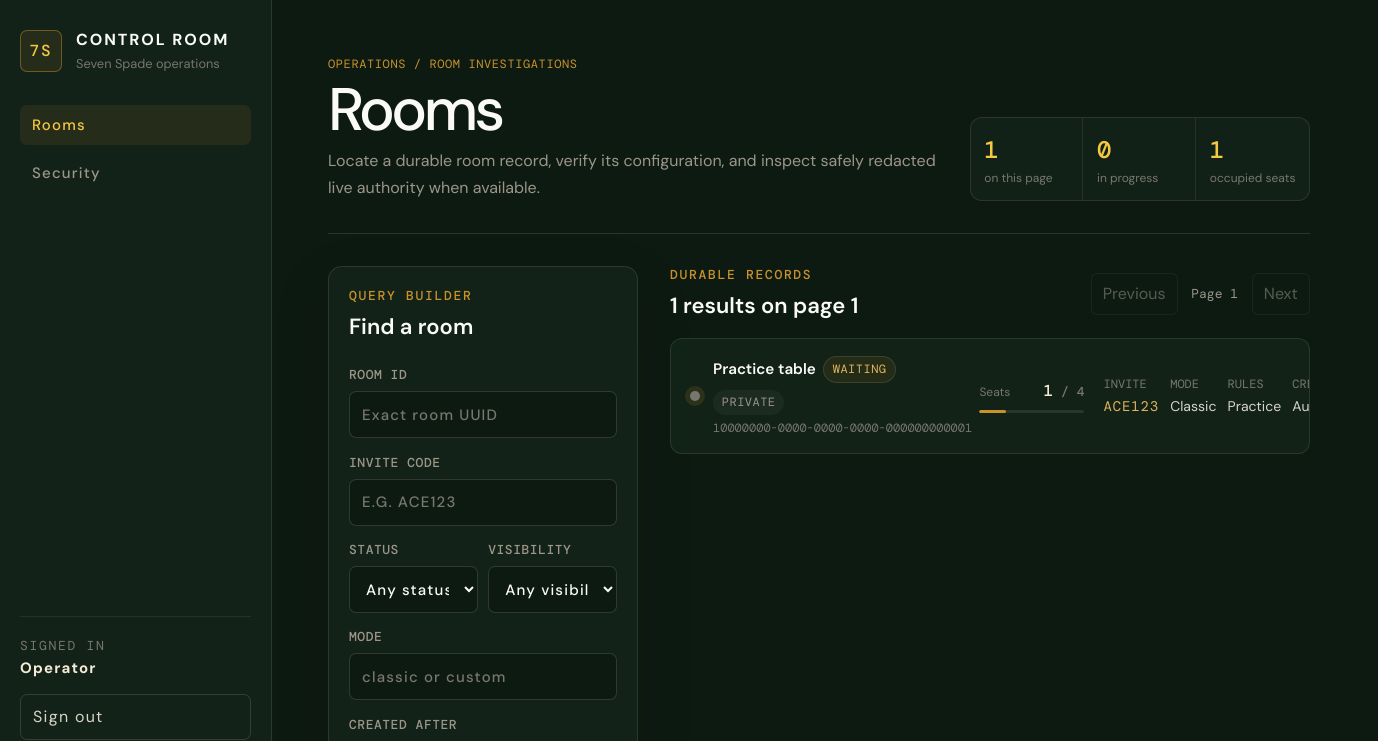
Scenario: operator searches a room and sees durable and unavailable live state
The width and height of the screenshot is (1378, 741).
Check: the heading "Rooms" is shown, box [328,70,502,149]
Check: the link "Rooms" is shown, box [20,105,251,145]
Click the link "Practice table" at (990, 396), box [670,338,1310,454]
(page scrolled)
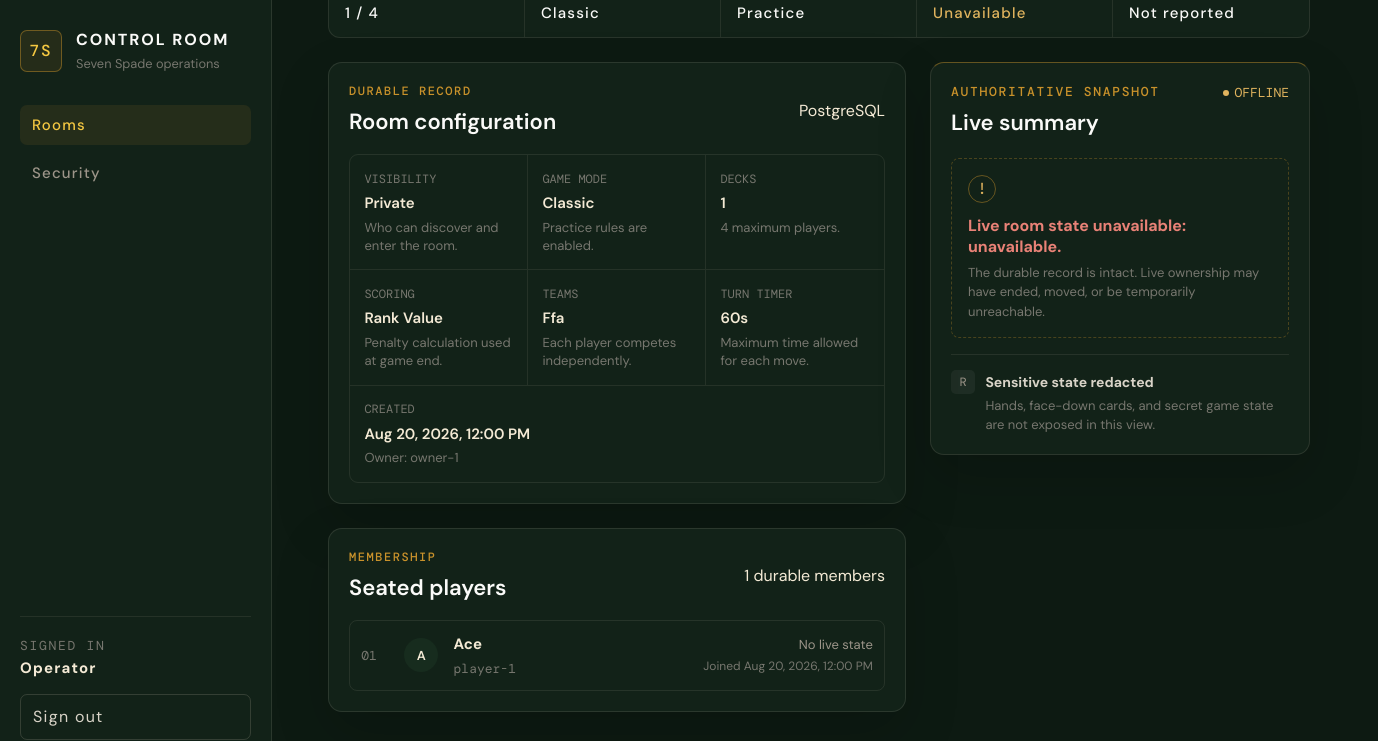
Check: the text "Live room state unavailable: unavailable." is shown, box [968,215,1186,257]
Check: the element "Room configuration" shows "60s", box [720,308,748,328]
Check: the element "Seated players" shows "Ace", box [454,634,482,654]
